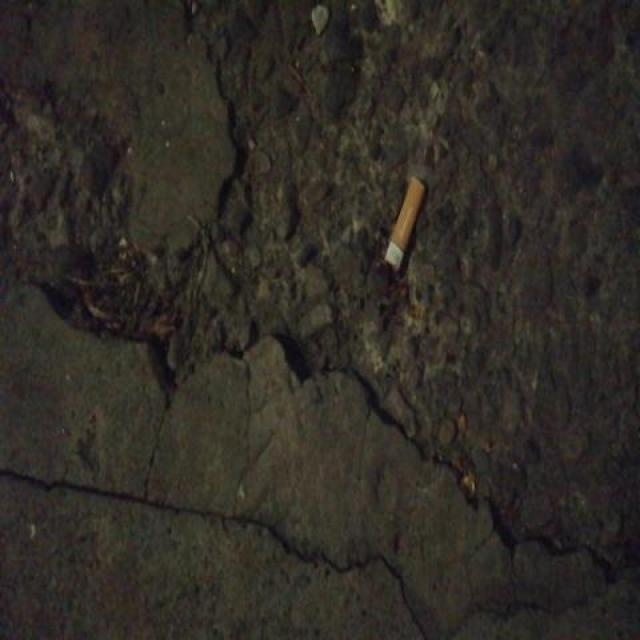non-organic waste: (380, 168, 428, 275)
